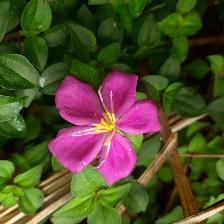malabar melastome: (48, 69, 164, 187)
